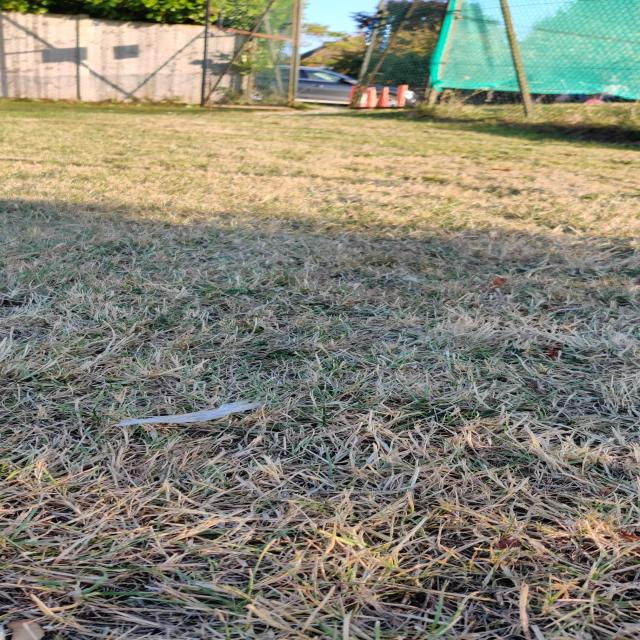litter: (102, 397, 279, 428), (347, 82, 419, 110)
